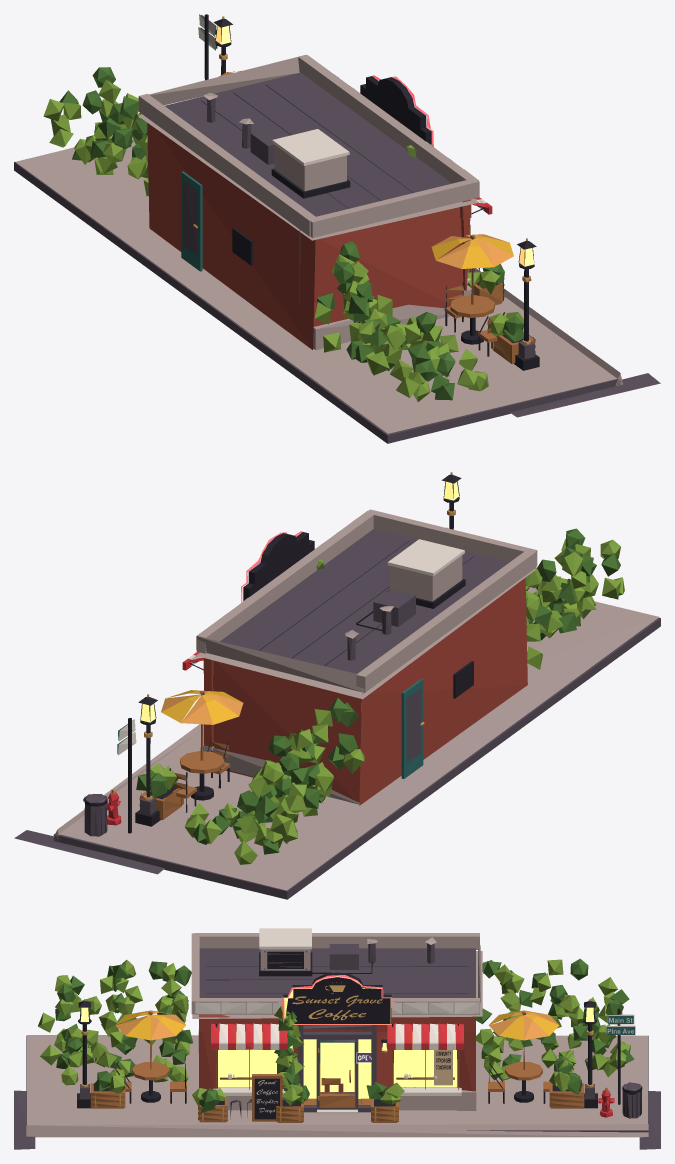
The picture shows the model from 3 angles, top to bottom: view 1: azimuth 30°, elevation 25°; view 2: azimuth 150°, elevation 25°; view 3: azimuth 270°, elevation 25°; orthographic projection. The views are drawn at different scales.
Visible parts, largest first — view 1: body_pal_sidewalk, body_pal_brick, roof_pal_sidewalk, roof_pal_asphalt, body_pal_foliage, body_pal_asphalt, body_pal_foliageDark, roof_pal_uiDark, body_pal_uiDark, body_pal_woodWarm, roof_pal_picketWhite, body_pal_schoolBusYellow (+2 smaller); view 2: body_pal_sidewalk, body_pal_brick, roof_pal_sidewalk, roof_pal_asphalt, body_pal_foliage, body_pal_asphalt, body_pal_foliageDark, body_pal_uiDark, roof_pal_uiDark, body_pal_woodWarm, roof_pal_picketWhite, body_pal_schoolBusYellow (+2 smaller); view 3: body_pal_sidewalk, body_pal_foliage, roof_pal_asphalt, body_pal_foliageDark, roof_pal_sidewalk, roof_pal_uiDark, body_pal_woodWarm, body_pal_asphalt, body_pal_brick, body_pal_uiDark, body_pal_picketWhite, roof_pal_picketWhite (+16 smaller).
Boxes of the visible parts, x1,y1,x2,y2 form: body_pal_sidewalk: [16, 137, 622, 433]; body_pal_brick: [147, 123, 471, 349]; roof_pal_sidewalk: [138, 55, 479, 240]; roof_pal_asphalt: [164, 72, 451, 216]; body_pal_foliage: [43, 79, 523, 401]; body_pal_asphalt: [14, 161, 660, 443]; body_pal_foliageDark: [59, 67, 523, 400]; roof_pal_uiDark: [201, 76, 431, 208]; body_pal_uiDark: [204, 14, 539, 370]; body_pal_woodWarm: [233, 70, 535, 364]; roof_pal_picketWhite: [272, 77, 478, 180]; body_pal_schoolBusYellow: [431, 234, 513, 268]; body_pal_sidewalk: [52, 587, 658, 890]; body_pal_brick: [203, 578, 527, 805]; roof_pal_sidewalk: [196, 509, 537, 699]; roof_pal_asphalt: [220, 529, 509, 673]; body_pal_foliage: [150, 539, 624, 864]; body_pal_asphalt: [14, 617, 660, 899]; body_pal_foliageDark: [136, 528, 620, 854]; body_pal_uiDark: [83, 474, 473, 835]; roof_pal_uiDark: [243, 532, 473, 666]; body_pal_woodWarm: [139, 690, 230, 819]; roof_pal_picketWhite: [196, 519, 464, 649]; body_pal_schoolBusYellow: [161, 527, 448, 724]; body_pal_sidewalk: [26, 1029, 648, 1137]; body_pal_foliage: [38, 959, 630, 1106]; roof_pal_asphalt: [199, 942, 475, 997]; body_pal_foliageDark: [55, 958, 634, 1112]; roof_pal_sidewalk: [191, 933, 482, 1018]; roof_pal_uiDark: [206, 951, 468, 1023]; body_pal_woodWarm: [90, 1011, 584, 1122]; body_pal_asphalt: [14, 1025, 660, 1149]; body_pal_brick: [199, 1014, 475, 1091]; body_pal_uiDark: [77, 1001, 642, 1119]; body_pal_picketWhite: [213, 1014, 635, 1114]; roof_pal_picketWhite: [195, 928, 479, 1013].
Size of the model in its own units: 7.4 by 4.75 by 18.72.
